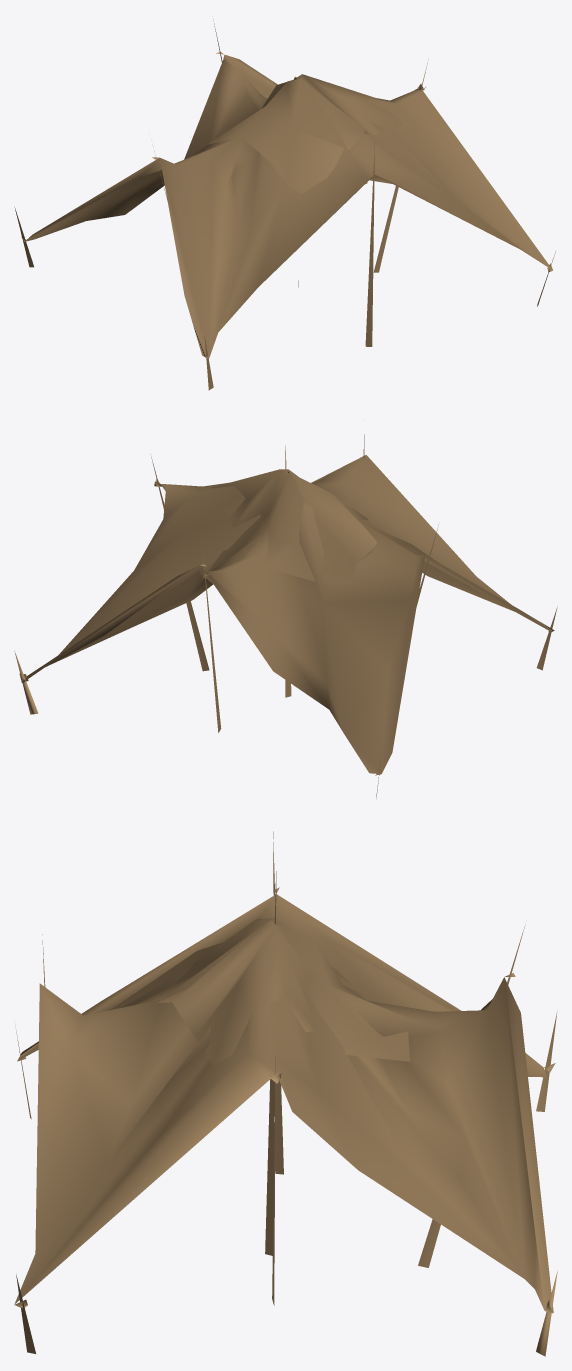
The model's file is carpa_c_lejos.glb.
The picture shows the model from 3 angles, top to bottom: view 1: azimuth 30°, elevation 25°; view 2: azimuth 150°, elevation 25°; view 3: azimuth 270°, elevation 25°; orthographic projection. The views are drawn at different scales.
Visible parts, largest first — view 1: carpa_c_lejos; view 2: carpa_c_lejos; view 3: carpa_c_lejos.
Boxes of the visible parts, bbox=[...] form: carpa_c_lejos: bbox=[14, 21, 555, 390]; carpa_c_lejos: bbox=[14, 434, 557, 798]; carpa_c_lejos: bbox=[14, 831, 557, 1356].
Bounding box in the file's own units: 4.83 × 3.33 × 4.16.
